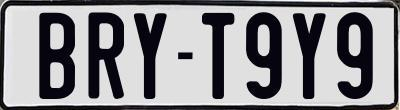9: (245, 12, 286, 101), (335, 10, 372, 100)
B: (39, 13, 79, 105)
R: (88, 10, 124, 101)
T: (202, 10, 237, 98)
Y: (133, 13, 170, 102), (292, 12, 326, 101)
